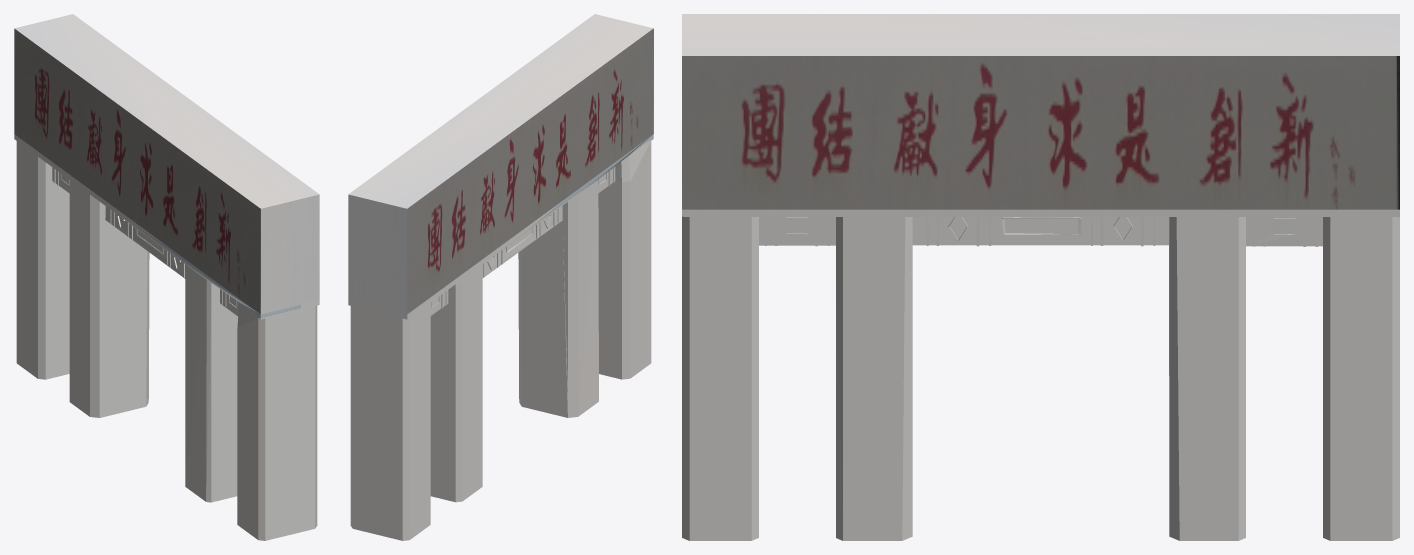
The model's file is arch2.dae.
3 views of the same model, side by side, from view 1: azimuth 30°, elevation 25°; view 2: azimuth 150°, elevation 25°; view 3: azimuth 270°, elevation 25° (orthographic). The views are drawn at different scales.
Visible parts, largest first — view 1: Arch; view 2: Arch; view 3: Arch.
Part boxes in pixels (box(x1,y1,x2,y2)): Arch: box(14, 14, 319, 540); Arch: box(348, 14, 653, 540); Arch: box(682, 14, 1399, 540).
Bounding box in the file's own units: 0.1223 × 0.8864 × 0.661.
Materials: 1 (1 with a texture image).
